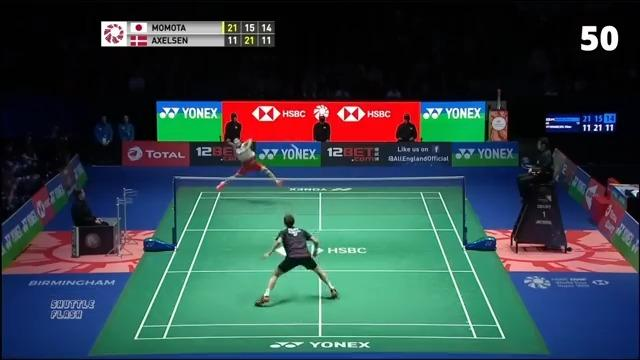Shuttlecock: (292, 142, 296, 148)
